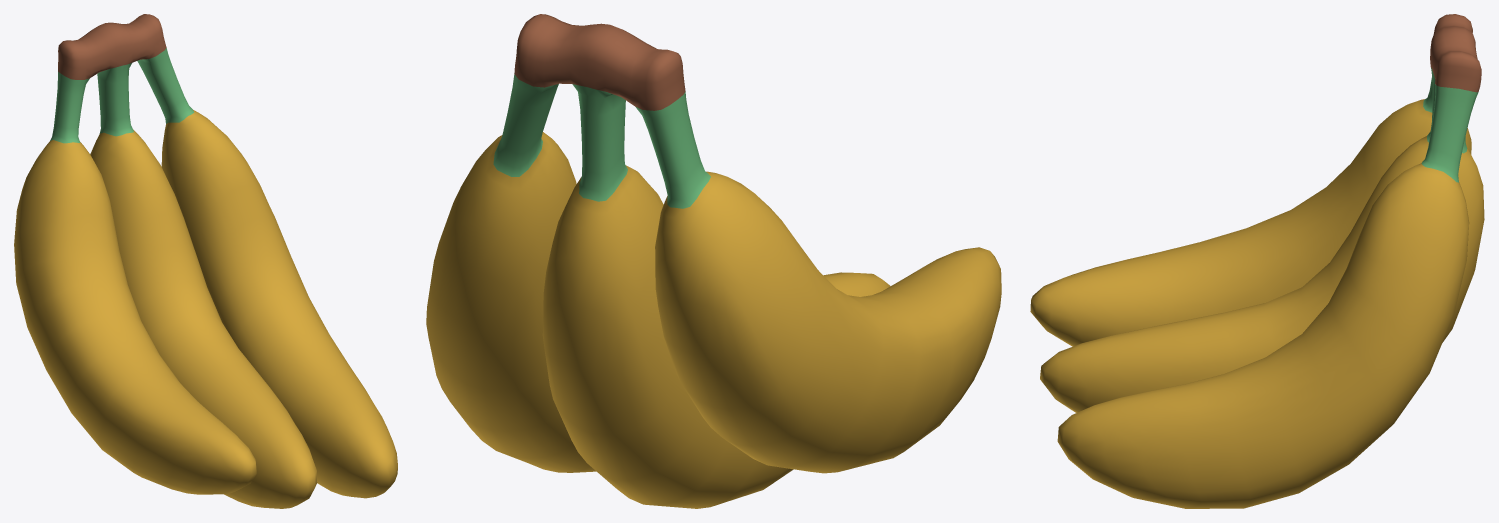
Rendered from Bananacomb_02.dae.
The picture shows the model from 3 angles, left to right: view 1: azimuth 30°, elevation 25°; view 2: azimuth 150°, elevation 25°; view 3: azimuth 270°, elevation 25°; orthographic projection. The views are drawn at different scales.
Parts seen in each view (by area): view 1: Bananacomb_02_LOD0; view 2: Bananacomb_02_LOD0; view 3: Bananacomb_02_LOD0.
Boxes of the visible parts, left/top/right/bottom form: Bananacomb_02_LOD0: left=14, top=14, right=397, bottom=508; Bananacomb_02_LOD0: left=426, top=14, right=1001, bottom=508; Bananacomb_02_LOD0: left=1030, top=14, right=1484, bottom=508.
Size of what is drawn, in the model's own units: 4.61 by 6.16 by 6.31.
